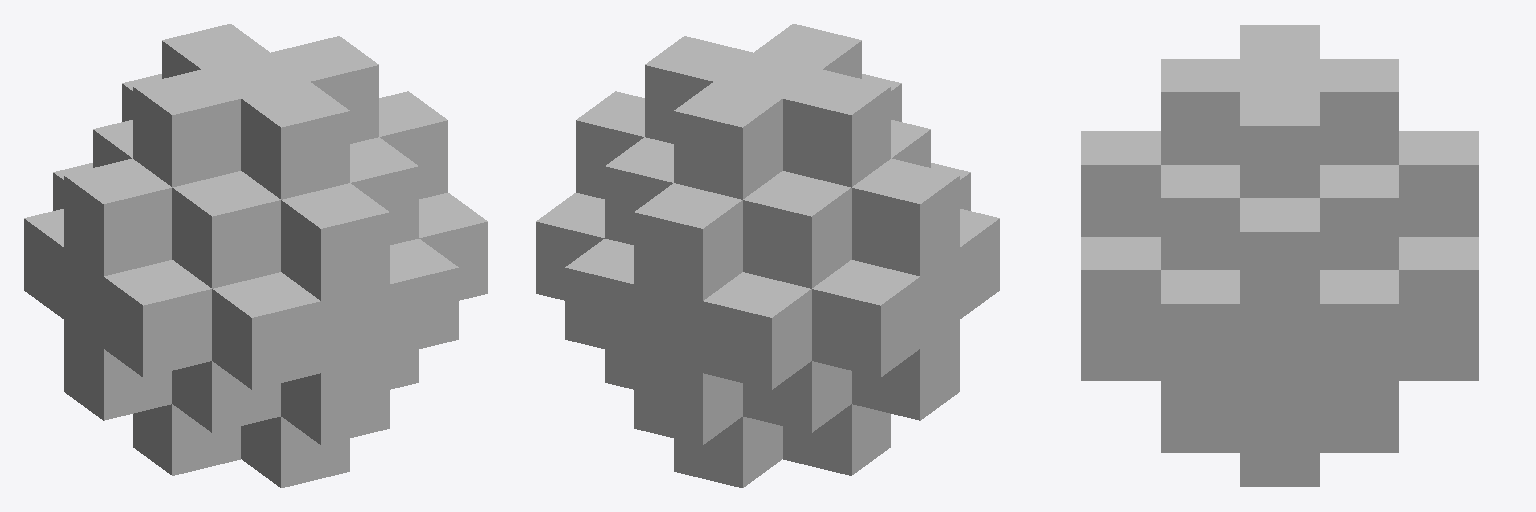
Rendered from fireball.obj.
3 views of the same model, side by side, from view 1: azimuth 30°, elevation 25°; view 2: azimuth 150°, elevation 25°; view 3: azimuth 270°, elevation 25° (orthographic).
Size of the model in its own units: 5 by 5 by 5.